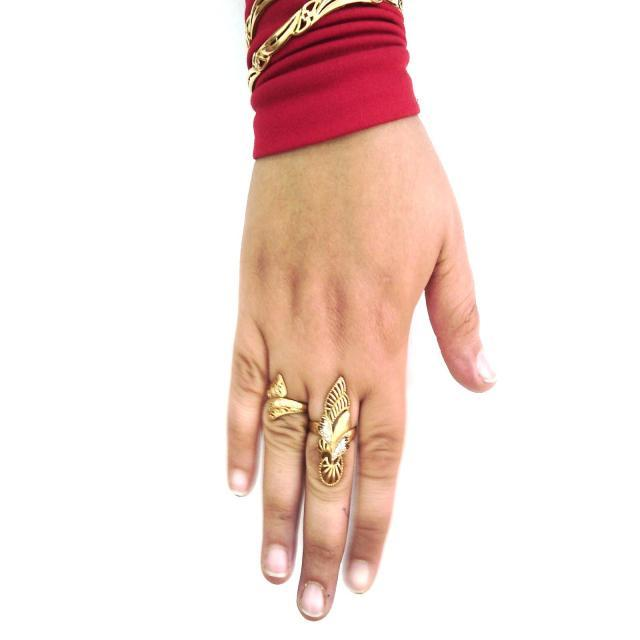Fingernail: (301, 583, 325, 616), (348, 560, 372, 592), (265, 545, 289, 576), (476, 351, 496, 381), (231, 470, 248, 494)
